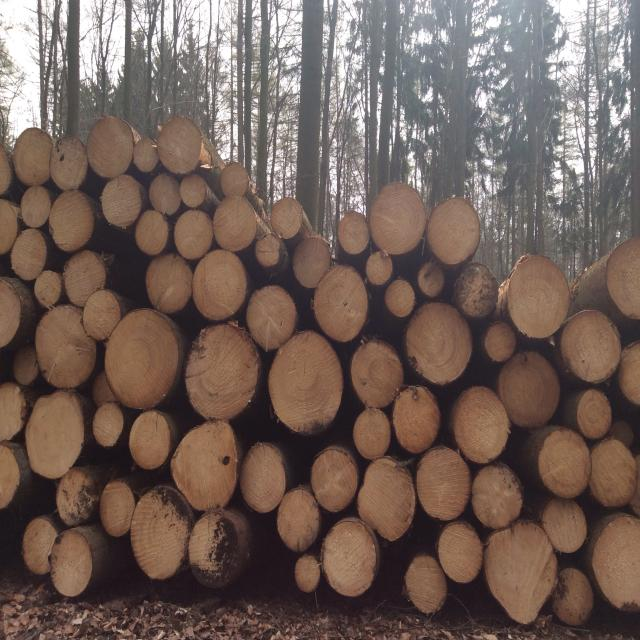wood-log: (268, 333, 344, 437), (106, 310, 183, 411), (484, 520, 557, 626), (185, 322, 262, 419), (172, 422, 241, 514), (130, 484, 192, 578), (22, 388, 84, 478), (403, 306, 470, 388), (505, 256, 569, 339), (36, 308, 97, 392), (586, 514, 638, 612), (356, 459, 416, 543), (499, 351, 563, 428), (188, 509, 254, 583), (321, 516, 380, 596), (556, 310, 620, 382), (454, 389, 514, 465), (367, 183, 428, 255), (313, 268, 369, 345), (415, 450, 472, 525), (534, 426, 590, 499), (192, 252, 247, 323), (426, 198, 481, 265), (350, 340, 404, 408), (247, 284, 300, 351), (471, 465, 524, 532), (587, 437, 636, 509), (392, 387, 442, 455), (312, 444, 362, 511), (237, 445, 284, 516), (274, 489, 320, 556), (50, 528, 93, 598), (89, 117, 138, 177), (439, 521, 485, 584), (156, 117, 205, 175), (146, 254, 194, 313), (129, 410, 175, 470), (608, 235, 640, 321), (403, 556, 449, 615), (49, 192, 94, 252), (540, 500, 588, 556), (456, 260, 500, 319), (550, 567, 593, 627), (211, 197, 259, 250), (57, 466, 99, 526), (9, 129, 52, 186), (64, 251, 108, 306), (23, 516, 61, 576), (101, 176, 143, 230), (290, 238, 331, 291), (99, 478, 136, 536), (352, 408, 392, 461), (84, 290, 124, 342), (52, 134, 89, 190), (176, 209, 216, 258), (12, 228, 49, 280), (268, 198, 312, 240), (577, 390, 613, 440), (135, 209, 171, 254), (90, 402, 124, 448), (0, 280, 22, 350), (0, 384, 26, 443), (337, 214, 372, 255), (619, 343, 640, 409), (19, 187, 52, 229), (0, 441, 20, 509), (483, 323, 517, 363), (150, 172, 182, 213), (218, 165, 251, 201), (384, 278, 414, 316), (0, 198, 20, 255), (34, 270, 64, 308), (11, 345, 39, 385), (179, 172, 210, 208), (295, 554, 321, 592), (364, 252, 393, 286), (133, 140, 161, 175), (417, 262, 444, 298), (256, 233, 284, 267), (0, 139, 13, 197), (510, 632, 542, 640), (474, 633, 502, 640)
